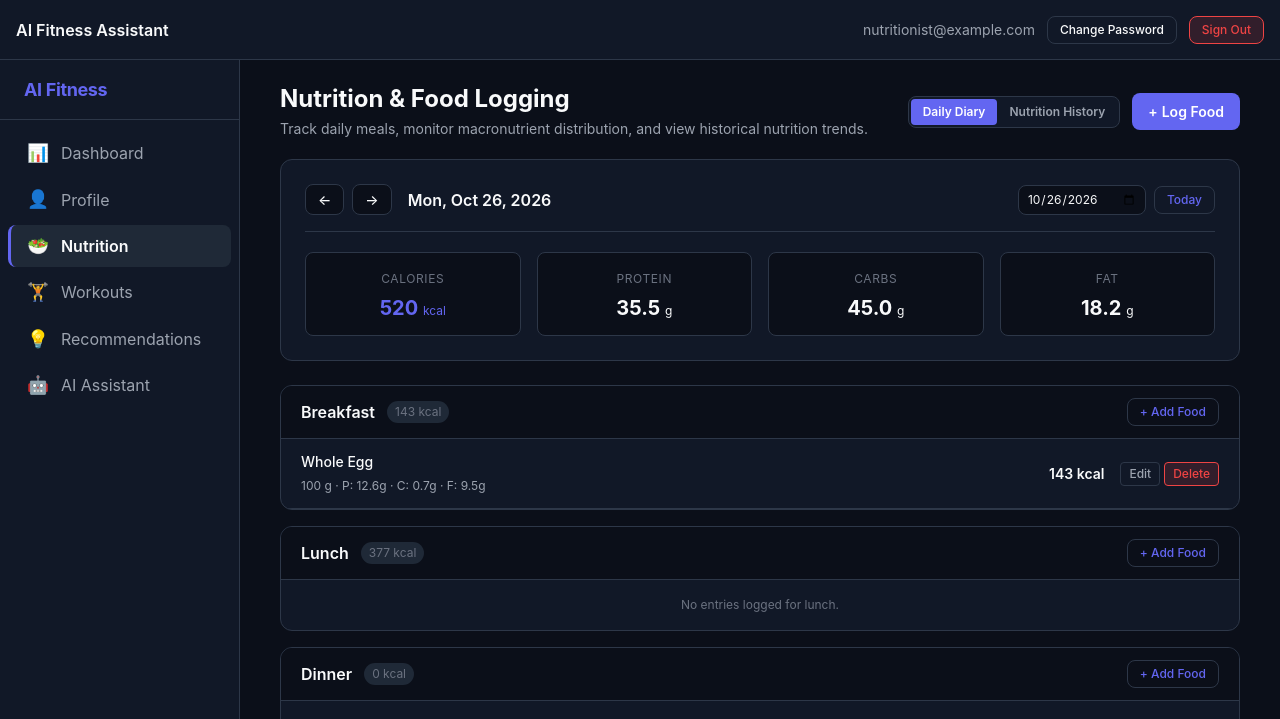
Phase 8E — Nutrition & Food Logging Tests › 6. food search displays empty state when no items match
Click the button "+ Log Food" at (1186, 112), box [1132, 93, 1240, 130]
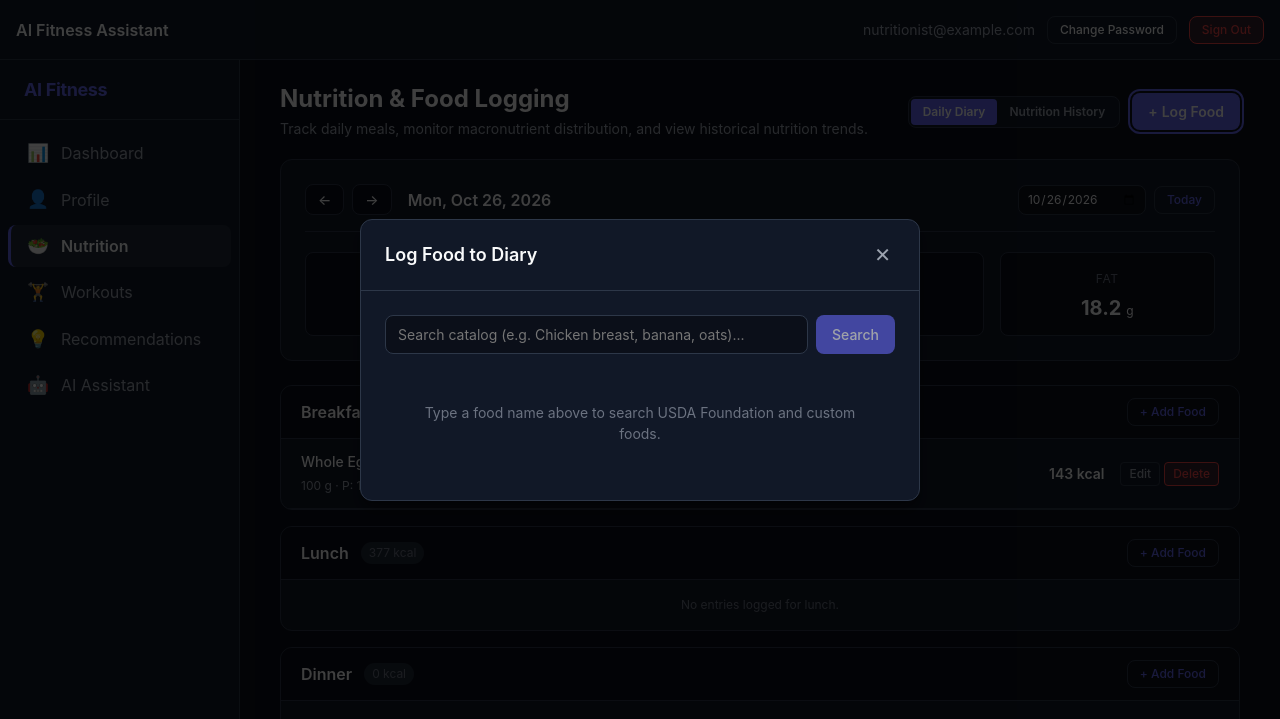
Type "unicorn meat" into the field named "search food catalog" at (596, 334), box [385, 315, 808, 354]
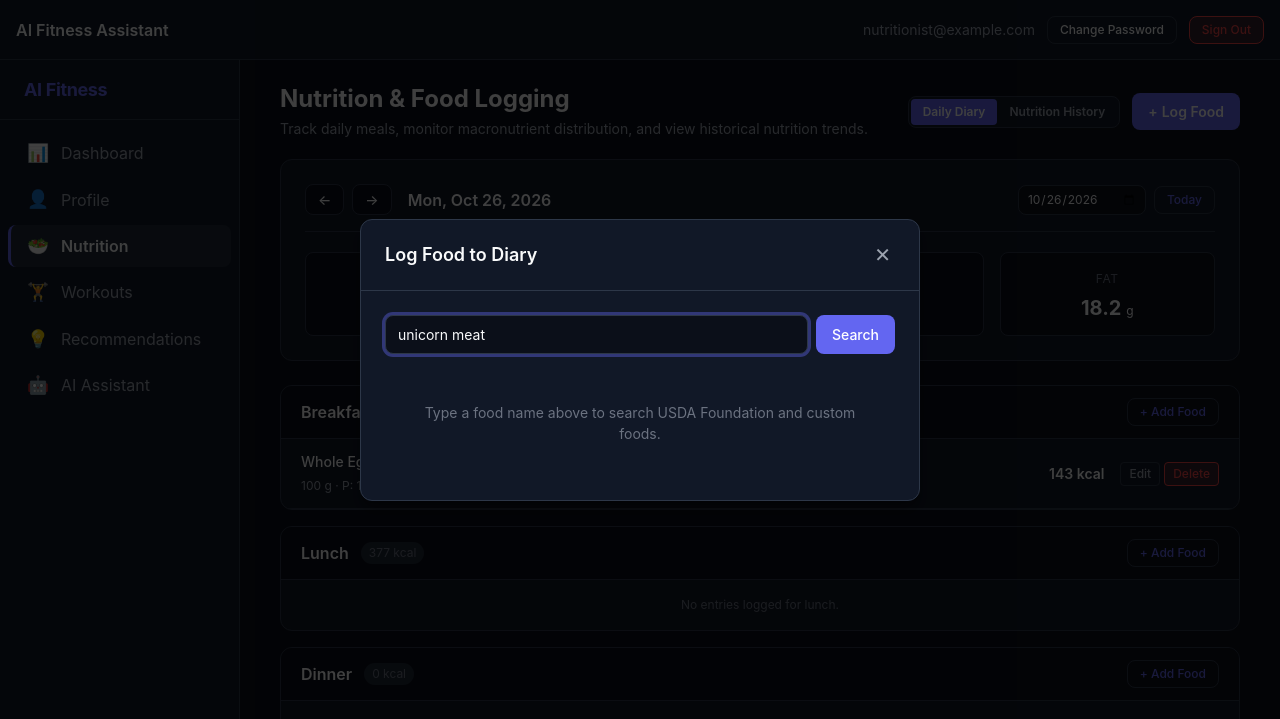
Click the button "Search" at (856, 334), box [816, 315, 895, 354]
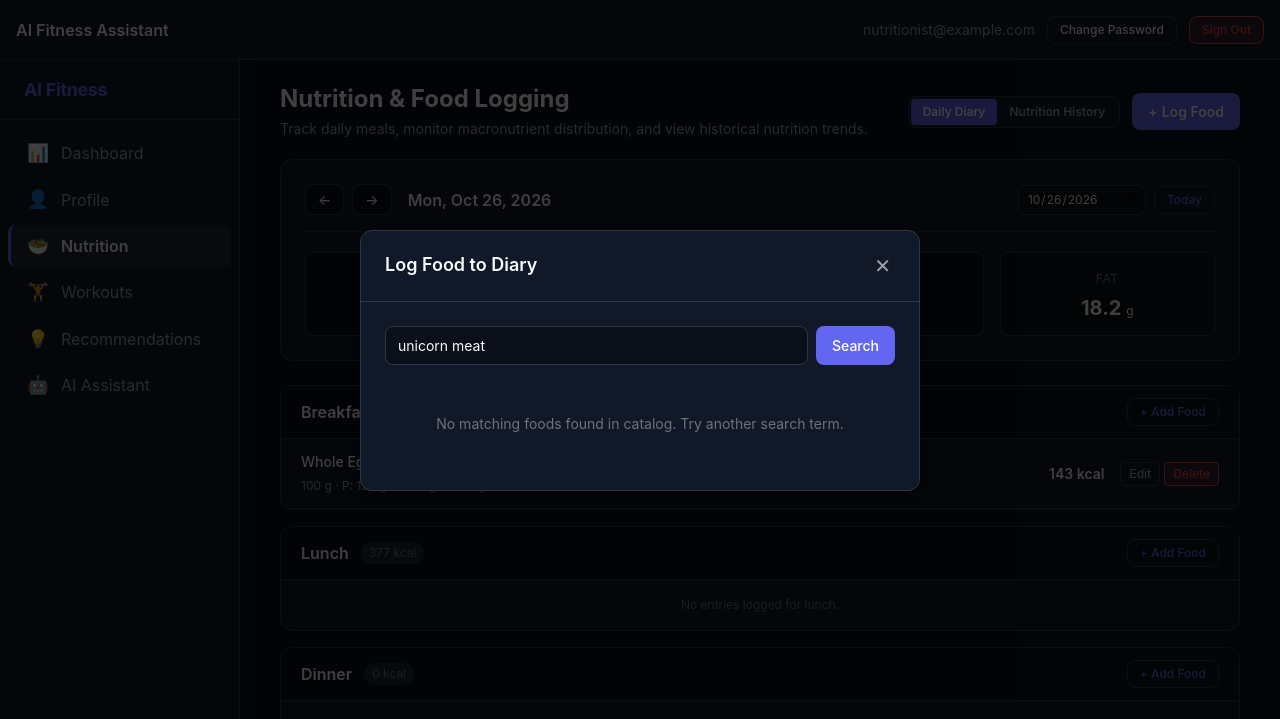
Now the text "No matching foods found in catalog. Try another search term." is shown, box [436, 414, 844, 432]
